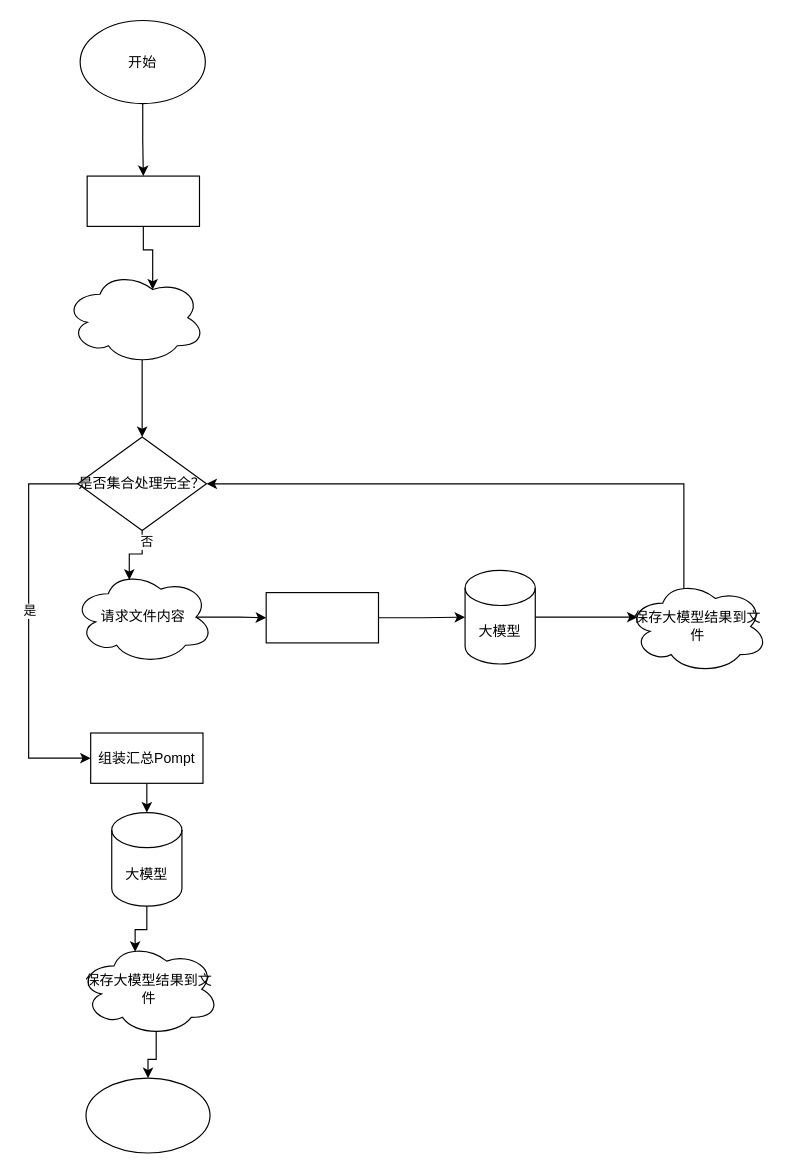
Some shapes in this 789 by 1174 pixel diagram are drawn without their labels. Each missing label, with the centre of its shape:
"组装单个文件Pompt" goes at point (321, 617).
"结束" goes at point (147, 1115).
"请求文件地址集合" goes at point (134, 317).
"输入文件服务地址" goes at point (142, 200).
